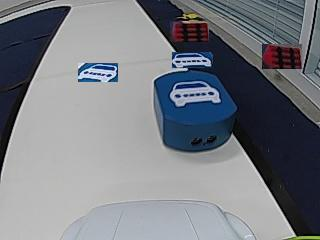safety: (169, 81, 222, 107)
